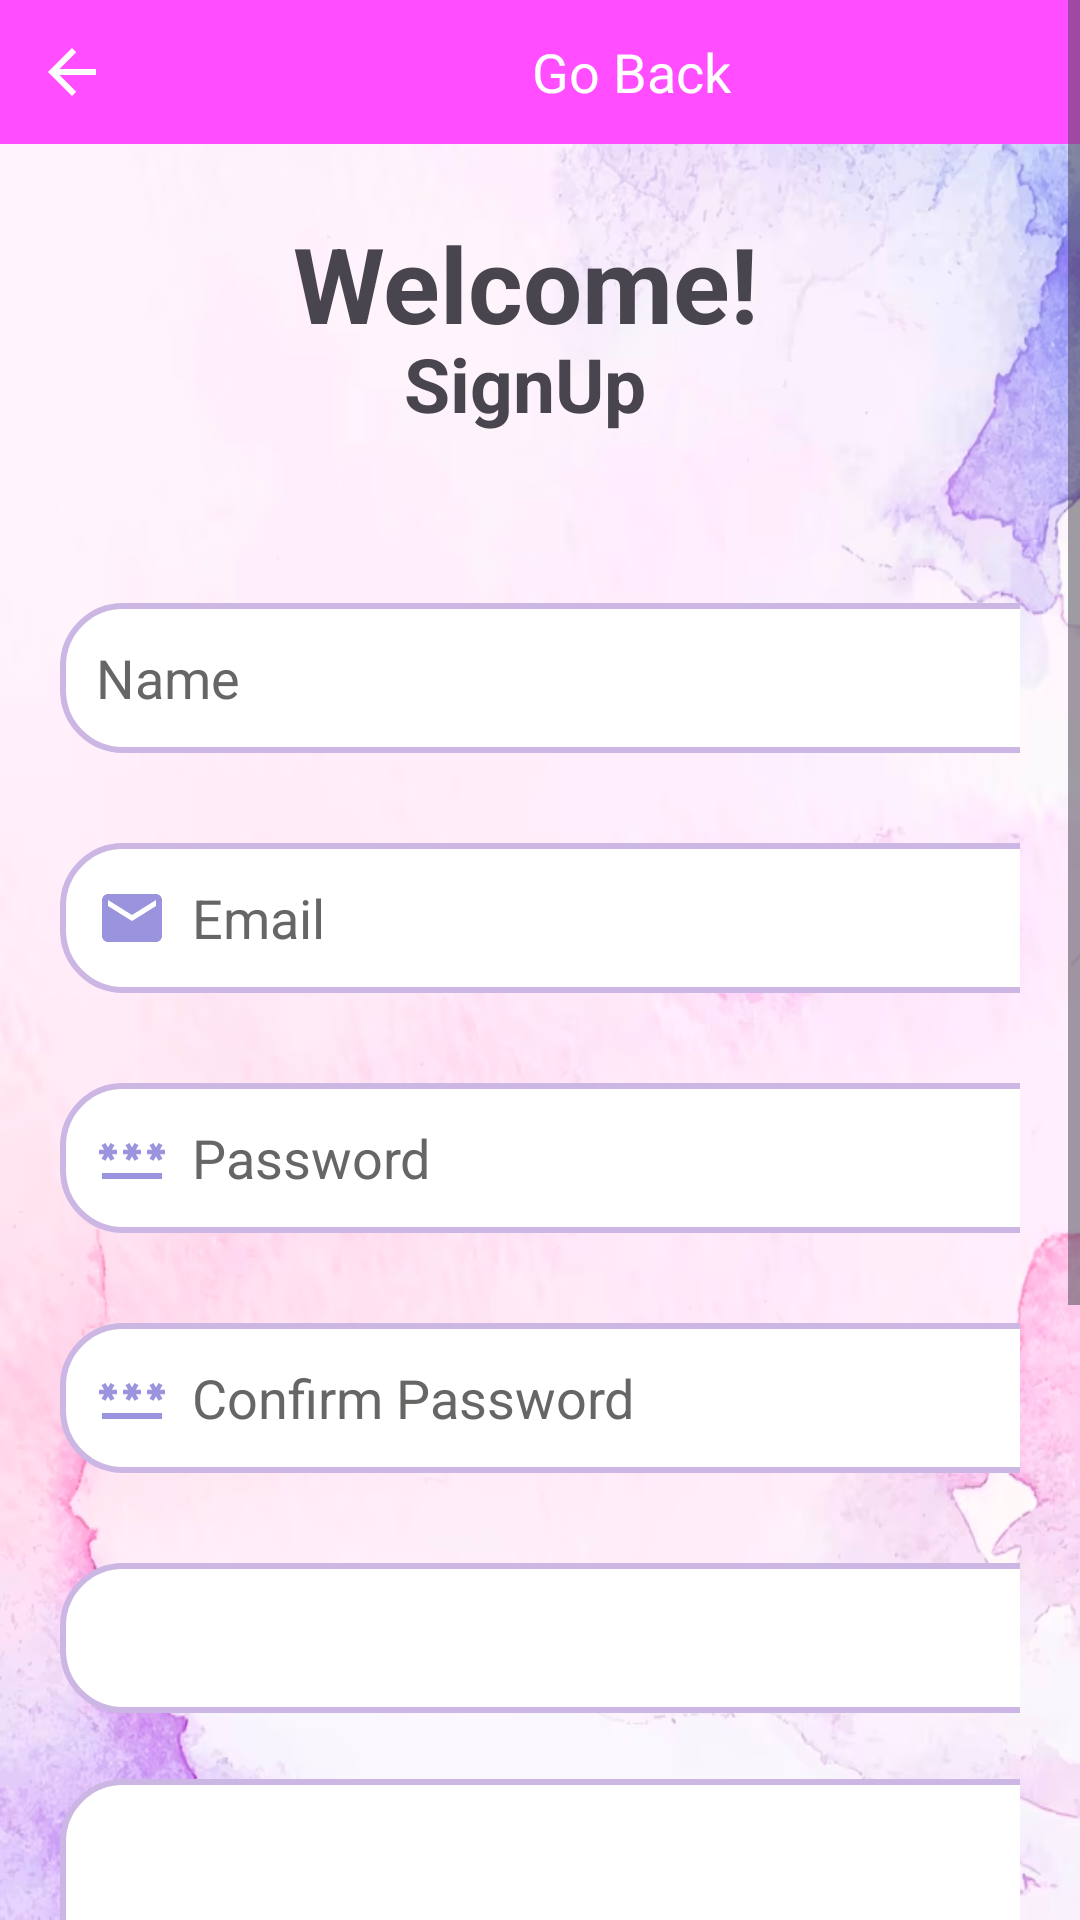

Screen size 1080 × 1920. Icon name, then its box in pixels as (x1, y1, x2, y2):
back arrow: (48, 48, 96, 96)
